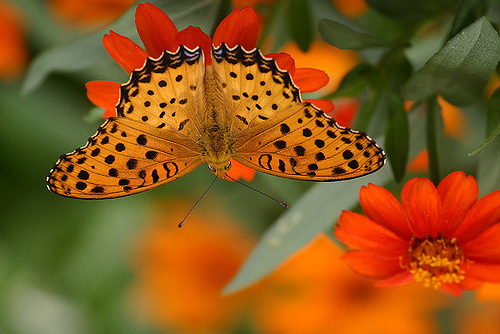Argyreus hyperbius: (41, 37, 389, 224)
butterfly: (43, 39, 391, 226)
